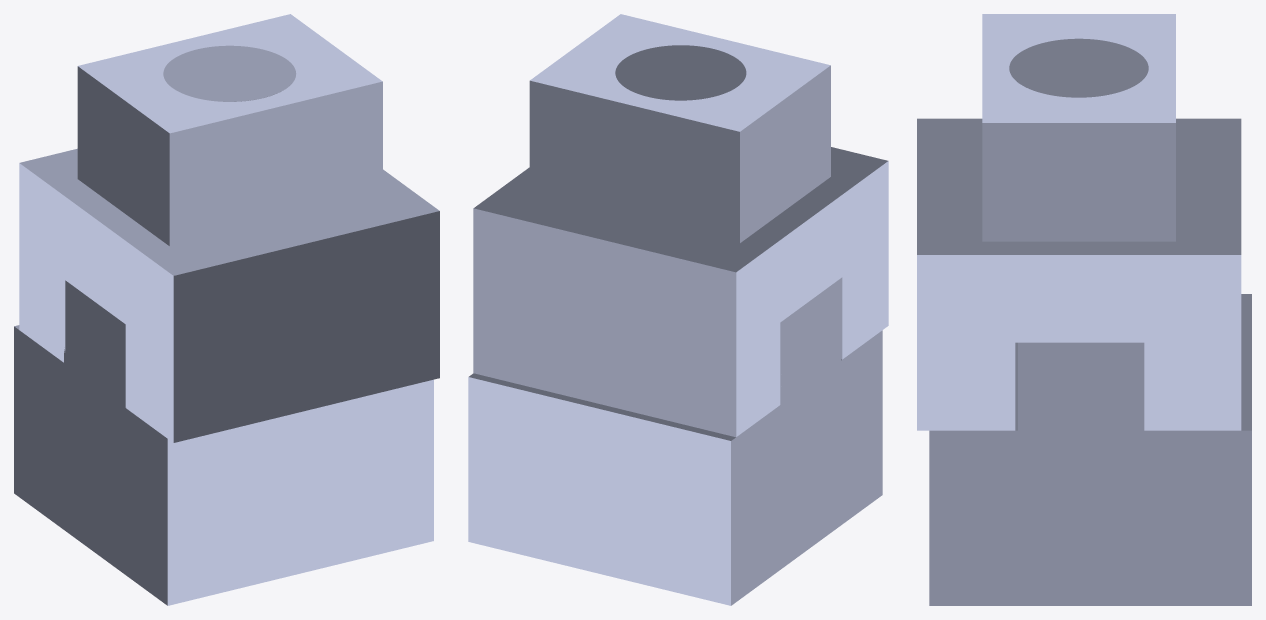
Rendered from obj assembly.obj.
The picture shows the model from 3 angles, left to right: view 1: azimuth 30°, elevation 25°; view 2: azimuth 150°, elevation 25°; view 3: azimuth 270°, elevation 25°; orthographic projection. The views are drawn at different scales.
Visible parts, largest first — view 1: Cut_Extrude1, Boss_Extrude2; view 2: Cut_Extrude1, Boss_Extrude2; view 3: Cut_Extrude1, Boss_Extrude2.
Boxes of the visible parts, x1,y1,x2,y2 form: Cut_Extrude1: (19, 14, 439, 442); Boss_Extrude2: (14, 280, 433, 605); Cut_Extrude1: (473, 14, 888, 437); Boss_Extrude2: (468, 278, 882, 605); Cut_Extrude1: (917, 14, 1241, 430); Boss_Extrude2: (929, 294, 1251, 605).
Size of the model in its own units: 5 by 8.03 by 5.19.
